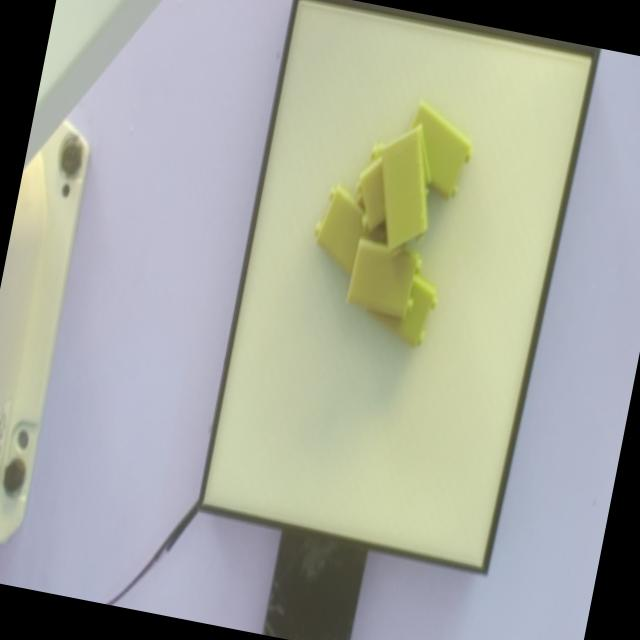bateria: (382, 125, 428, 258)
mesa: (196, 0, 600, 577)
